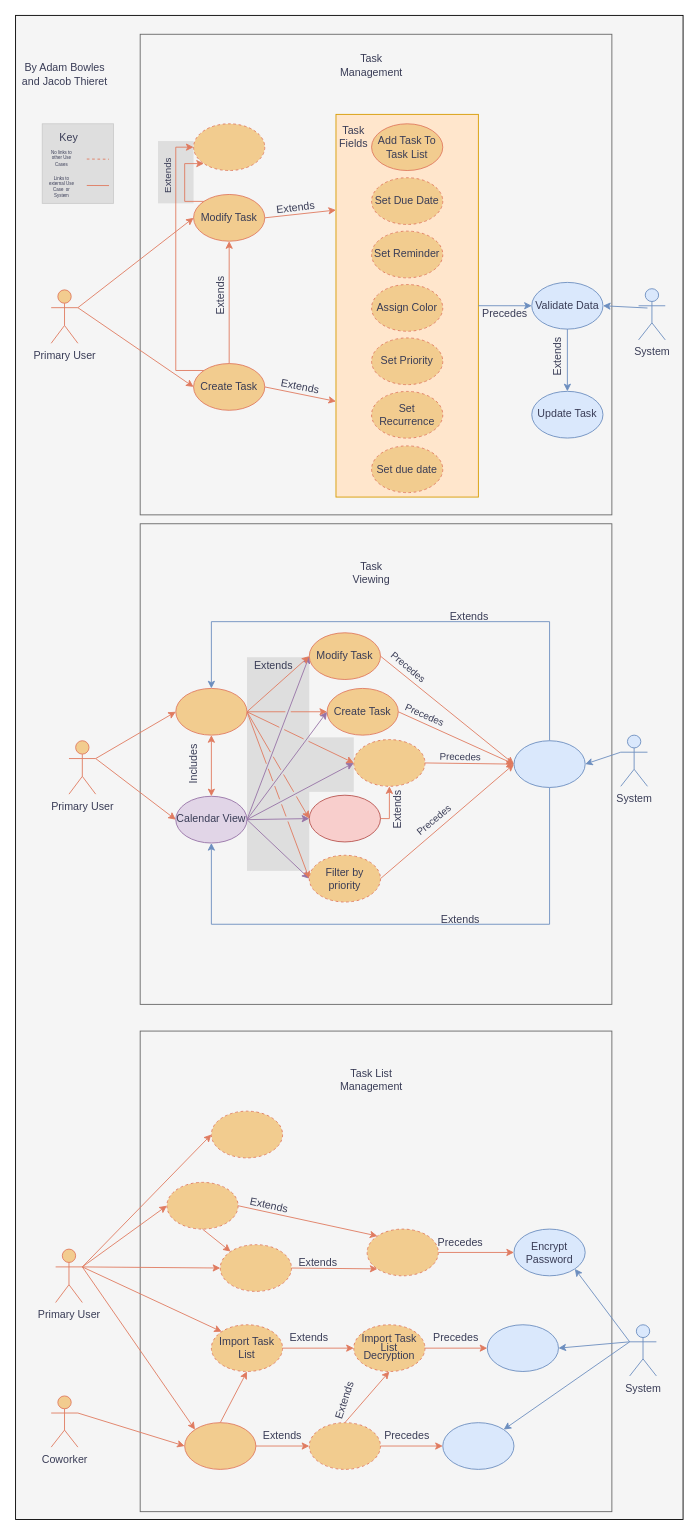
The diagram is 699 pixels wide and 1535 high, and some of its shapes have lost their labels. Here are the shapes that lost their labels. From the top down, the centre of each, then its label:
[229,147]: Mark as Complete
[211,711]: Weekly View
[389,762]: Filter By Task
[549,763]: Update Views
[344,818]: Task List Manager
[246,1134]: Delete Task List
[202,1205]: Create Task List
[255,1267]: Modify Task List
[402,1252]: Task List Password Protection
[522,1347]: Decrypt Data
[220,1445]: Export Task List
[344,1445]: Export Task List Encryption
[478,1445]: Encrypt Data
